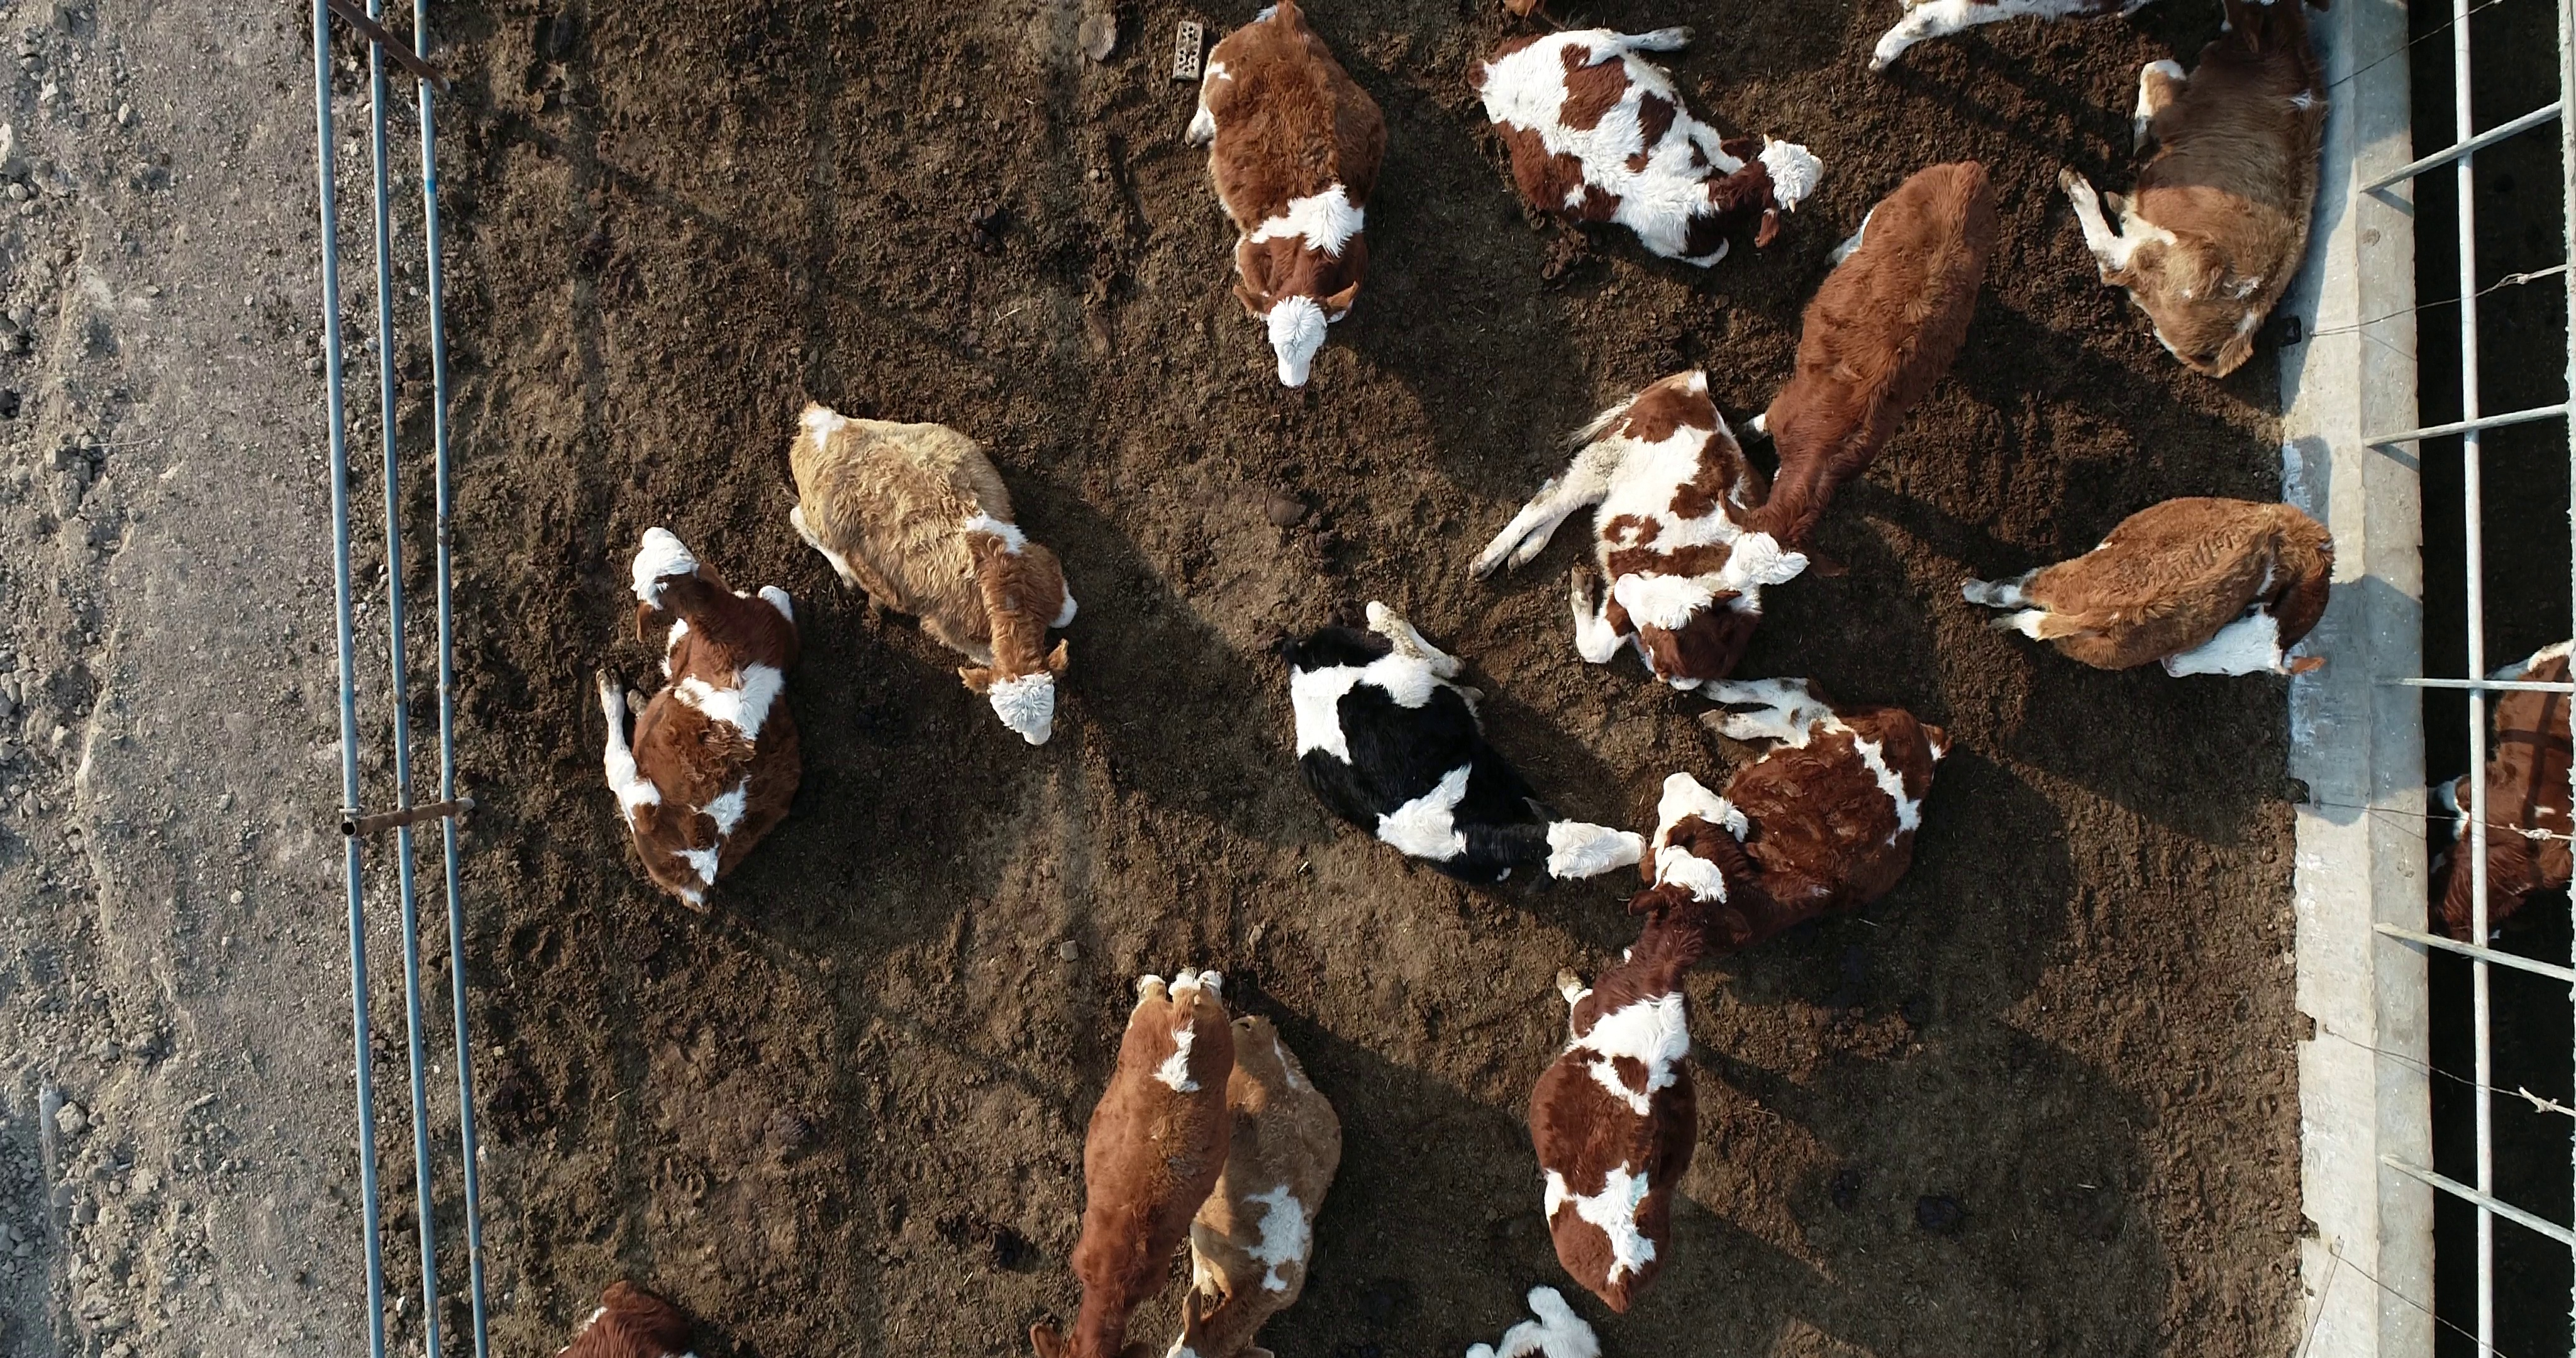cattle: (1714, 160, 2007, 598), (1268, 600, 1651, 891), (1527, 842, 1757, 1319), (782, 395, 1082, 750), (1462, 26, 1830, 273), (588, 523, 806, 917), (1177, 2, 1392, 395), (1956, 492, 2339, 685)
